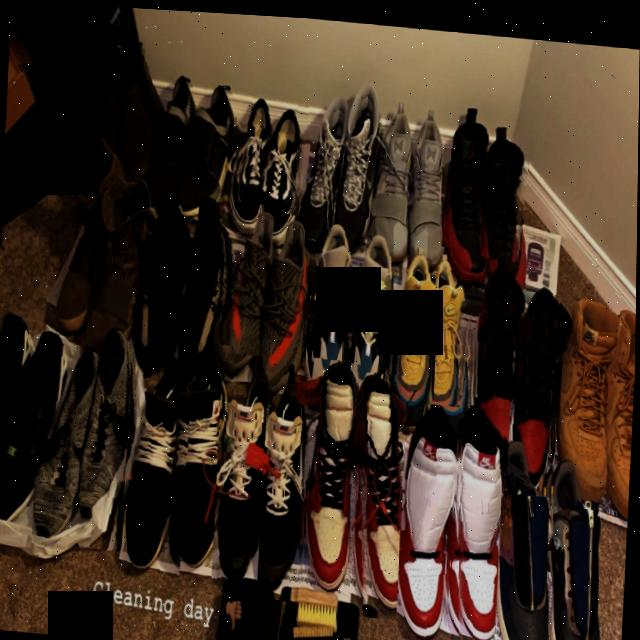shoe: (121, 338, 195, 588), (163, 337, 234, 588), (32, 330, 106, 559), (551, 275, 621, 504), (213, 349, 278, 594), (78, 314, 145, 551), (347, 366, 411, 614), (397, 396, 462, 637), (507, 270, 577, 492), (258, 352, 319, 599), (447, 389, 507, 640), (303, 352, 364, 597), (465, 249, 530, 464), (210, 196, 282, 380), (437, 89, 501, 290), (384, 232, 442, 436), (257, 209, 316, 400), (426, 240, 480, 427), (479, 112, 533, 288), (339, 223, 400, 375), (301, 211, 357, 376), (257, 96, 309, 254), (228, 83, 276, 234)
